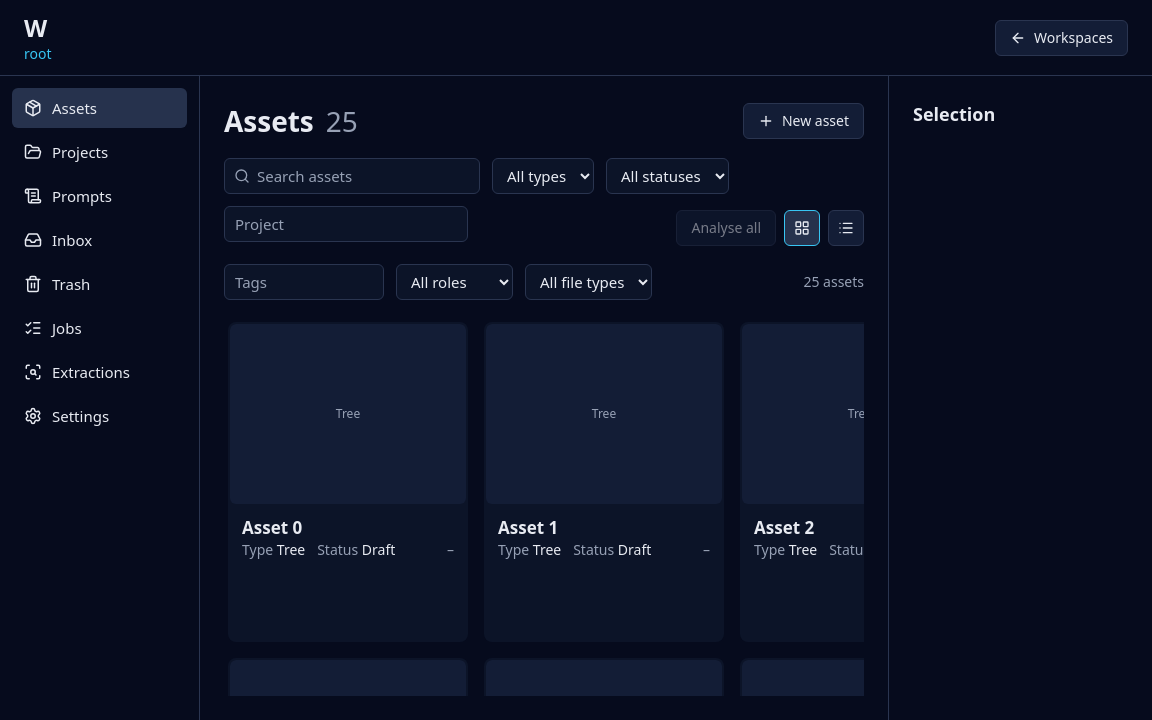
Test: Show all in the shell switches to the assets gallery with the project and tag filter
The image size is (1152, 720).
Step 1. Click the link "Projects" → x=66, y=152, box x1=24 y1=142 x2=108 y2=162
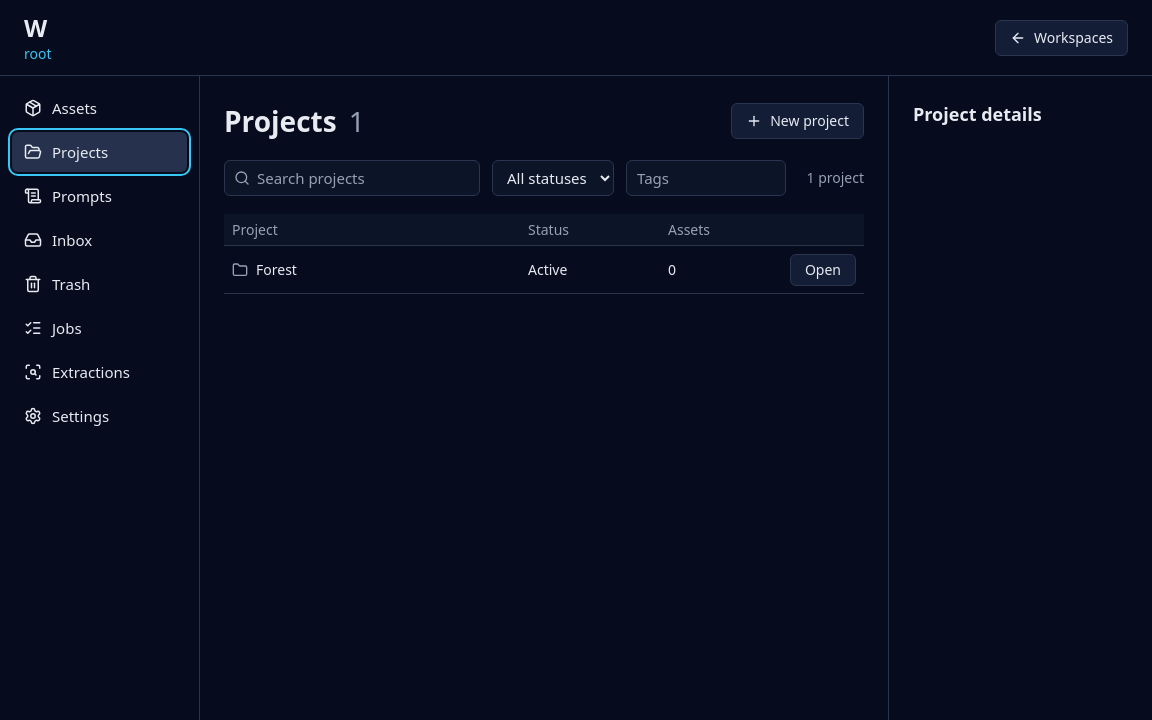
Step 2. Click the text "Forest" → x=276, y=270, box x1=256 y1=260 x2=297 y2=280
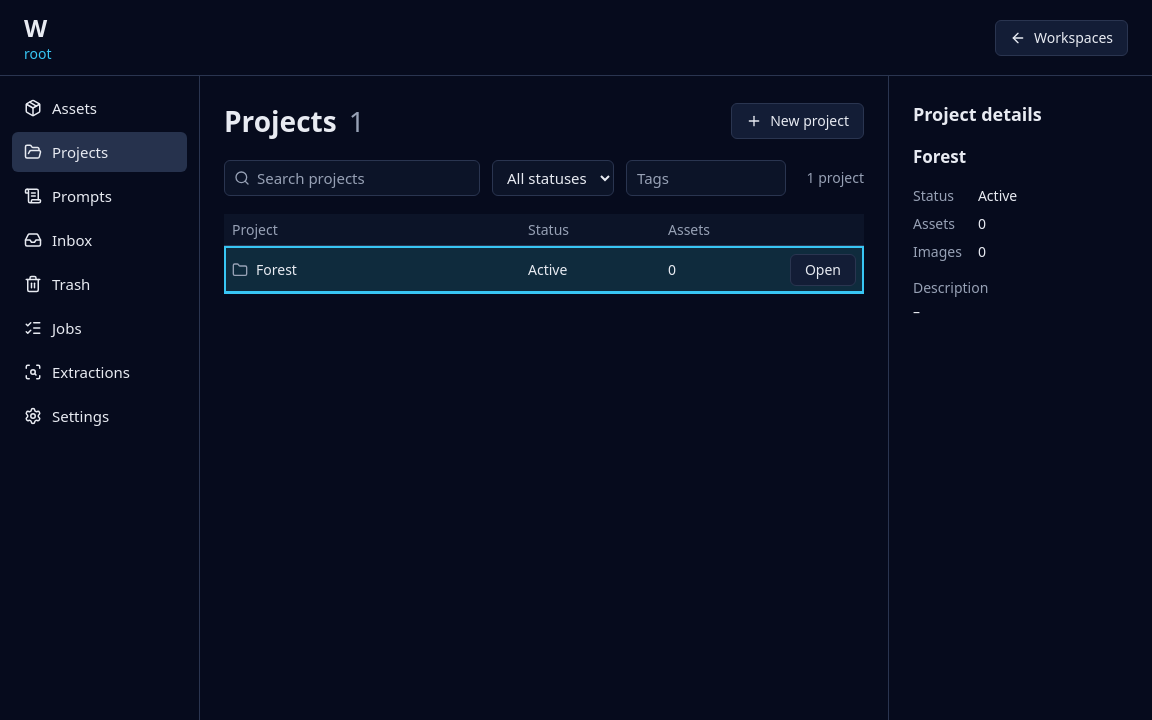
Step 3. Type "Oak" into the dropdown labelled "Tags" → x=706, y=178, box x1=626 y1=160 x2=786 y2=196
Then press Enter
(page scrolled)
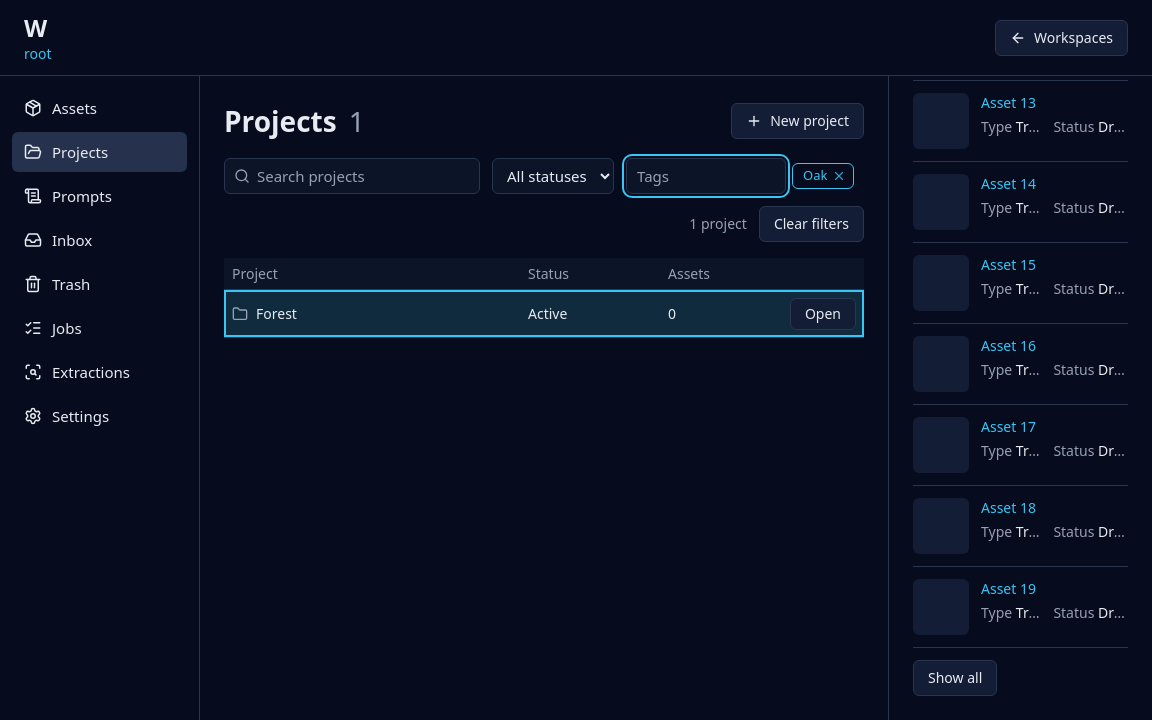
Step 4. Click the button "Show all" → x=955, y=678, box x1=913 y1=660 x2=997 y2=696
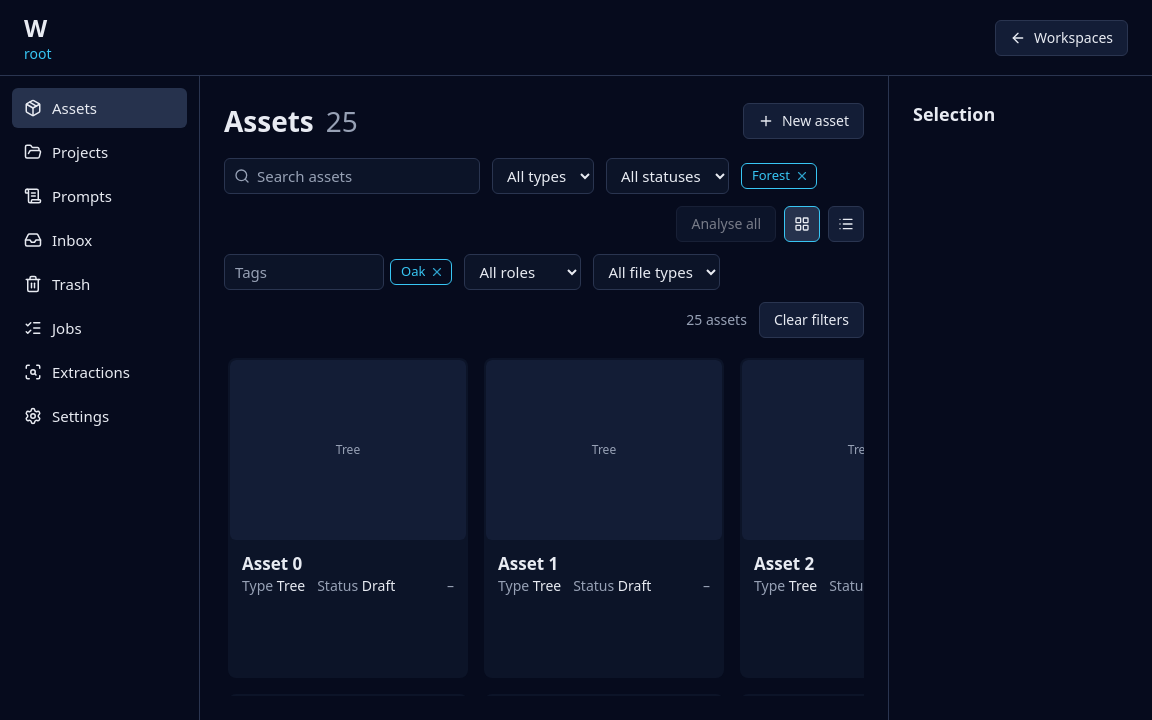
Expected: the button named "Remove project Forest" is shown, x1=794 y1=168 x2=810 y2=184
